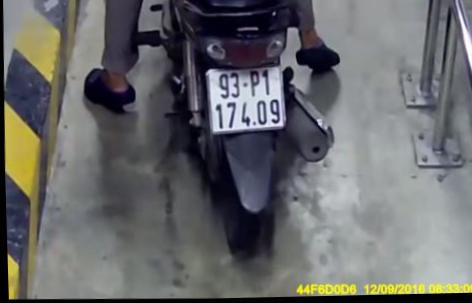LP: (204, 65, 288, 135)
